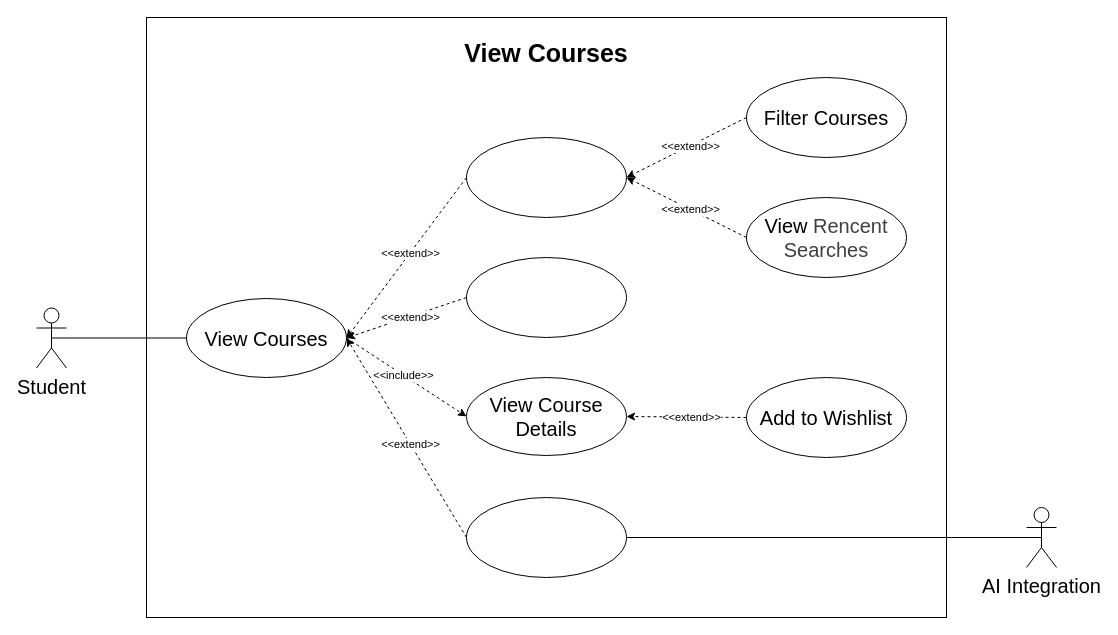
Image size: 1118x635. Some labels were removed from this diagram. Each missing label, with the box of its shape:
Browse Courses: (466, 256, 626, 338)
Recommend Courses: (466, 496, 626, 578)
Search Courses: (466, 136, 626, 218)
